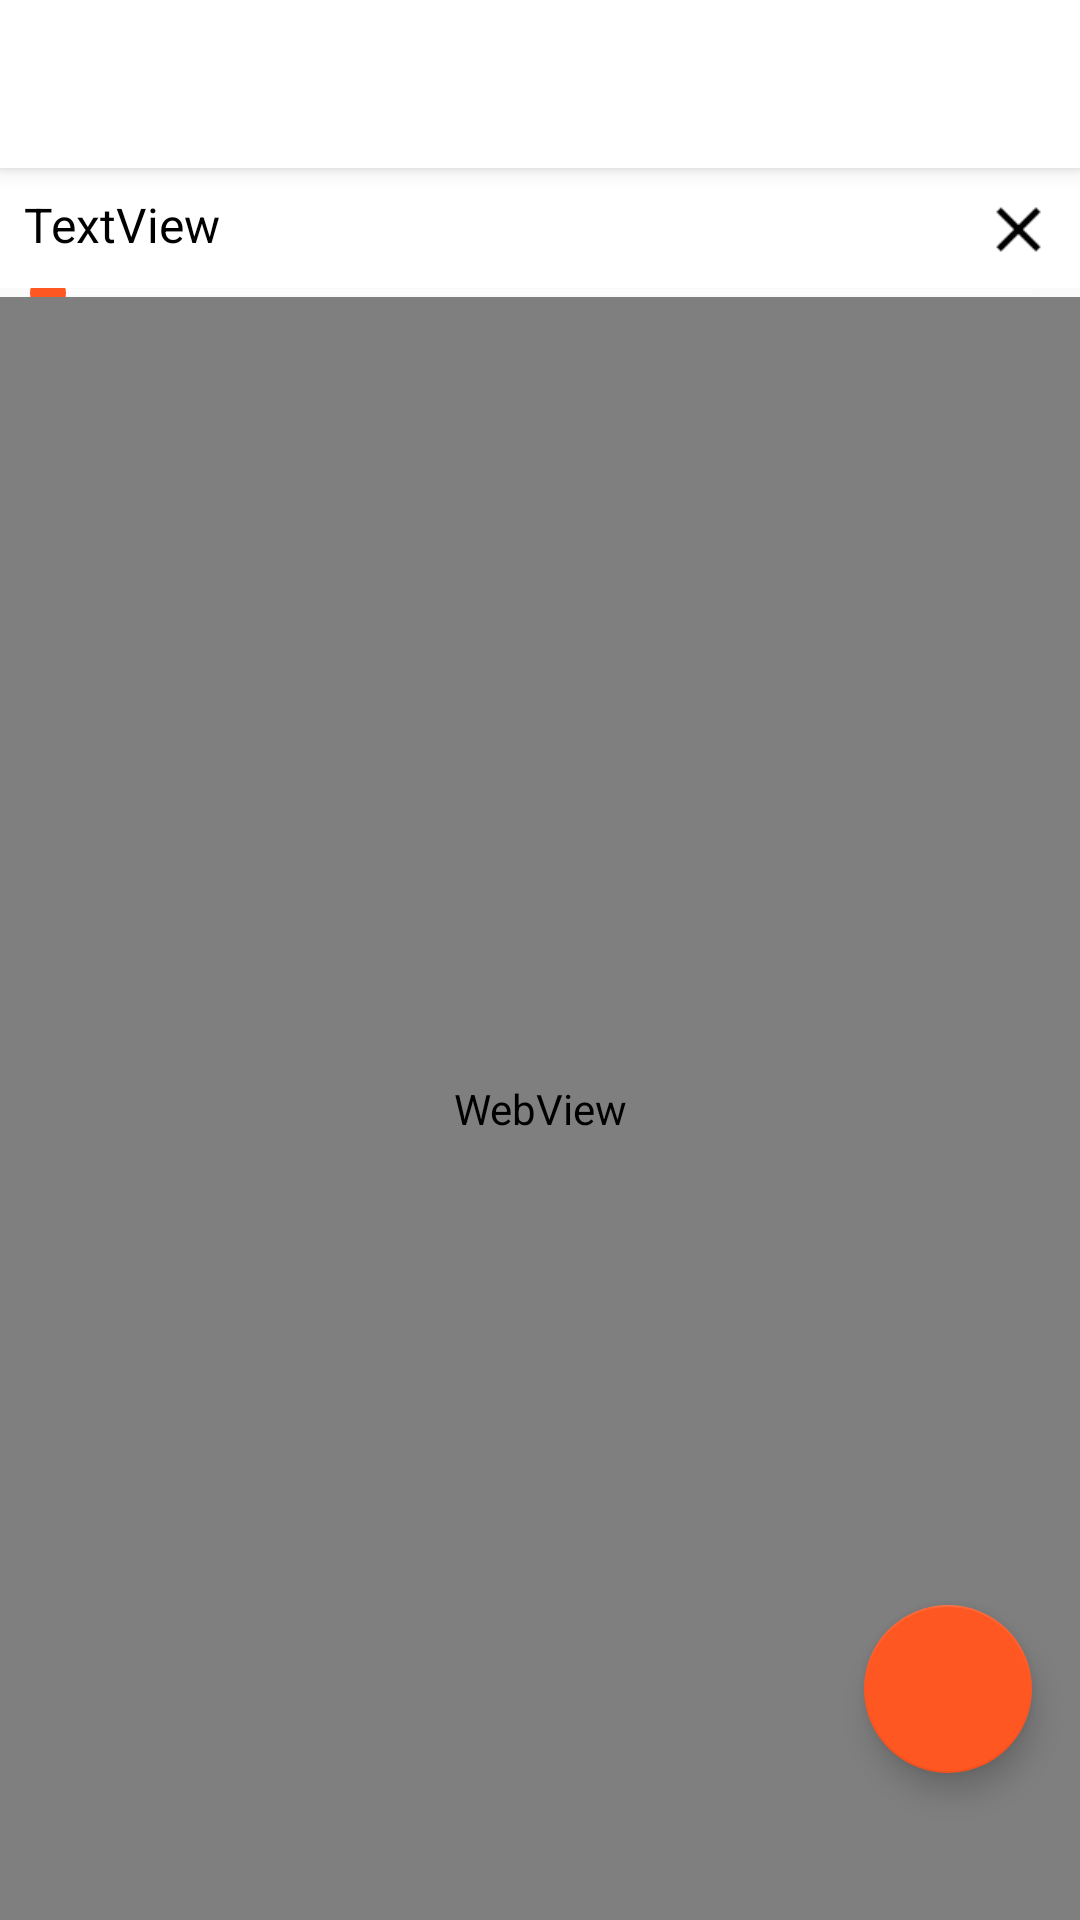

Point at icon controls on the screen. Image size 1080x1920, points as (x=x, y=y).
close: (x=1018, y=229)
